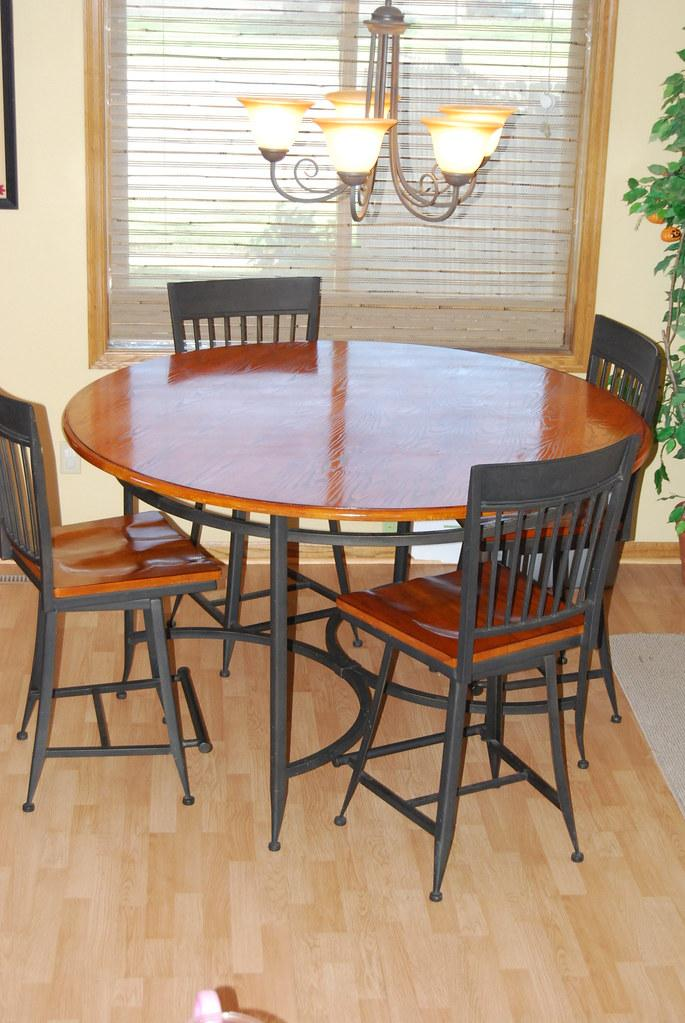table: (61, 337, 655, 853)
